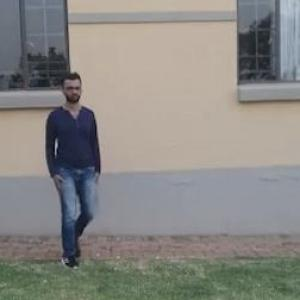follow: (46, 71, 102, 262)
